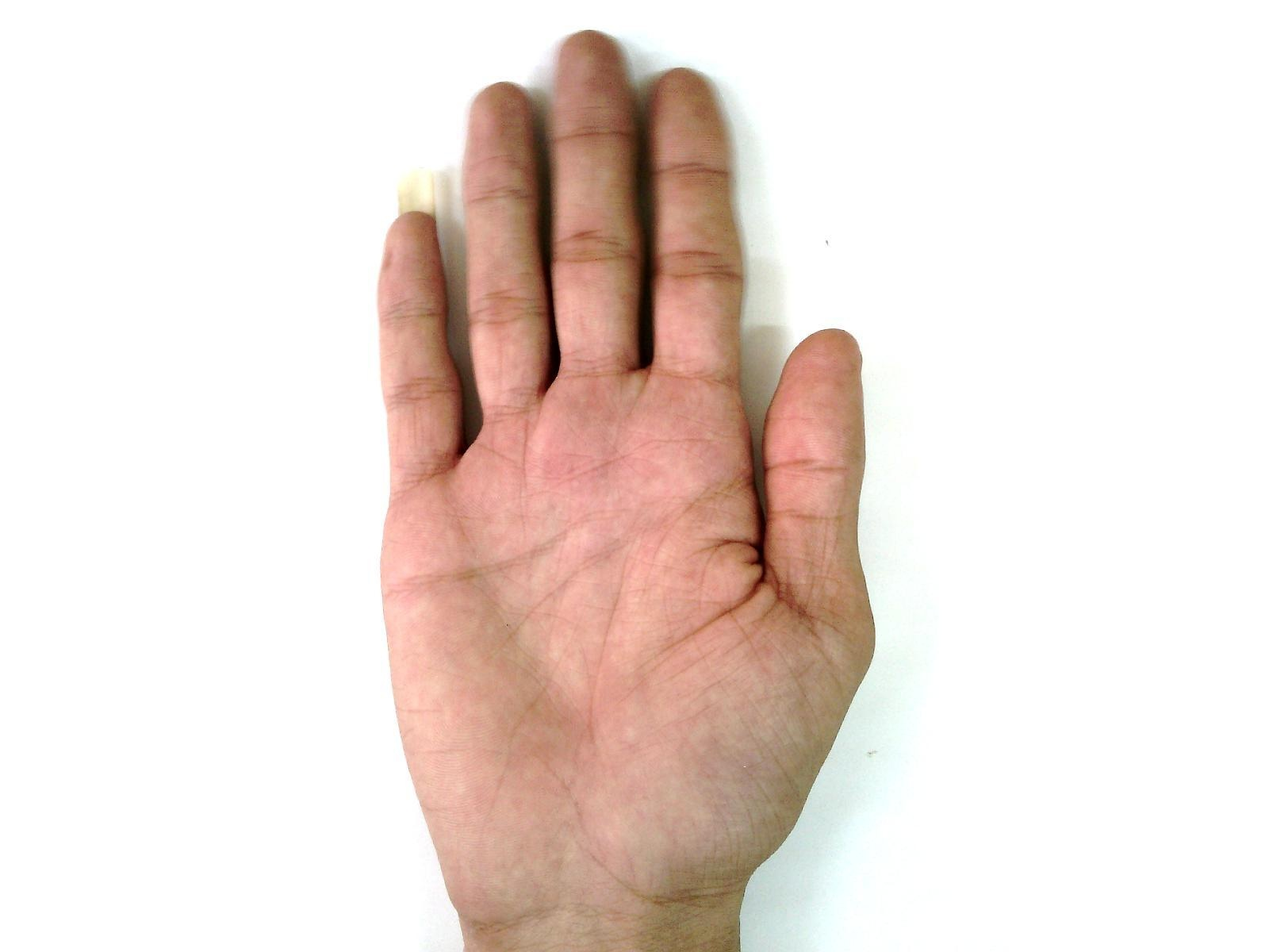open_palm: (372, 29, 880, 912)
